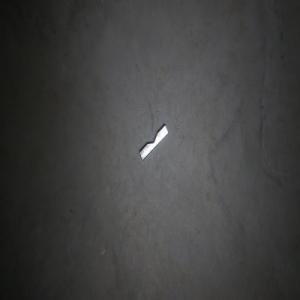ClampPart: (139, 124, 168, 161)
